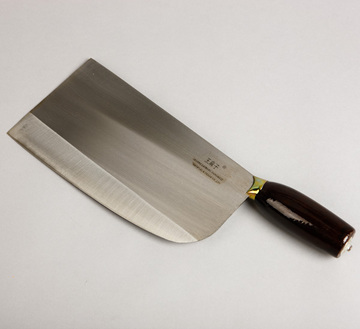knief: (12, 49, 360, 261)
